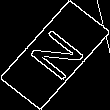N_SE: (21, 23, 89, 87)
